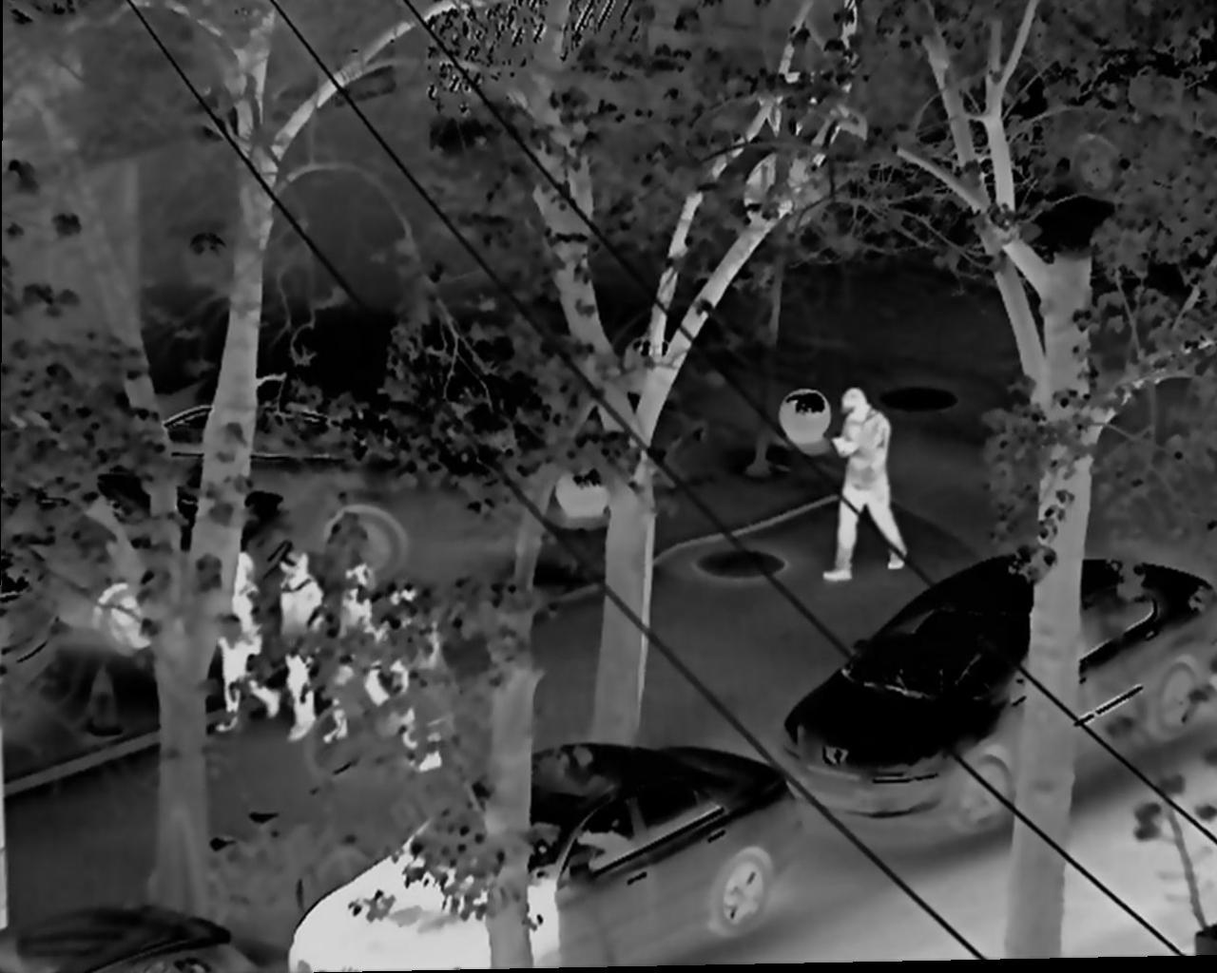person: (827, 390, 903, 583), (218, 552, 280, 734), (280, 551, 316, 738)
